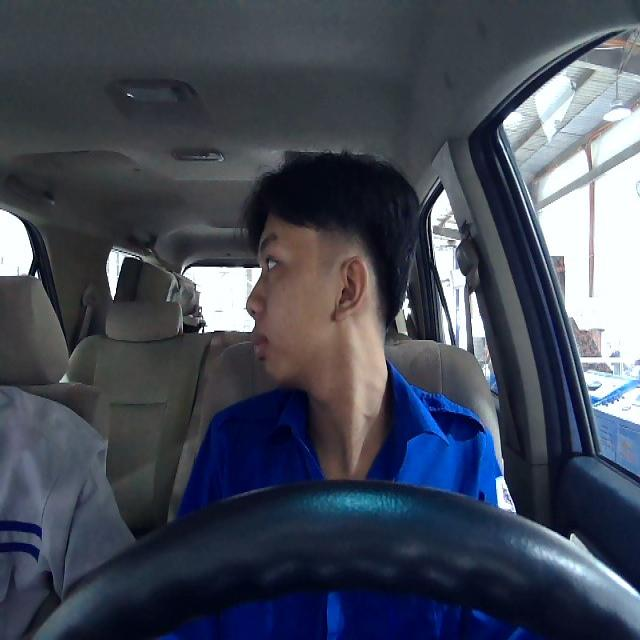seeing_left: (243, 204, 372, 387)
